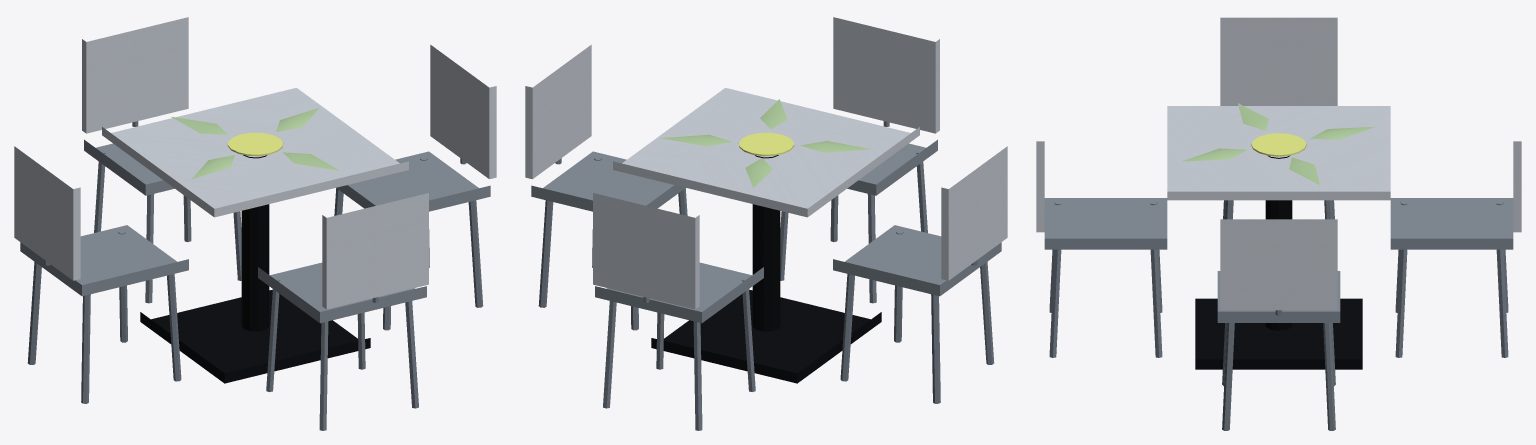
File: tt_food_table4.glb
The picture shows the model from 3 angles, left to right: view 1: azimuth 30°, elevation 25°; view 2: azimuth 150°, elevation 25°; view 3: azimuth 270°, elevation 25°; orthographic projection.
Visible parts, largest first — view 1: Chair_Back, Top, Chair_Seat, Base, Chair_Legs, Pedestal, Top_Leaf, Top_Ball; view 2: Chair_Back, Top, Chair_Seat, Base, Chair_Legs, Pedestal, Top_Leaf, Top_Ball; view 3: Chair_Back, Top, Chair_Seat, Base, Chair_Legs, Top_Leaf, Top_Ball, Pedestal.
Part boxes in pixels (<box>): Chair_Back: <box>14,17,496,309</box>; Top: <box>102,88,408,217</box>; Chair_Seat: <box>20,139,490,323</box>; Base: <box>140,289,370,383</box>; Chair_Legs: <box>27,153,483,430</box>; Pedestal: <box>241,155,269,331</box>; Top_Leaf: <box>171,108,339,179</box>; Top_Ball: <box>227,132,283,156</box>; Chair_Back: <box>525,17,1007,309</box>; Top: <box>613,88,919,217</box>; Chair_Seat: <box>531,139,1001,323</box>; Base: <box>651,289,881,383</box>; Chair_Legs: <box>538,153,994,430</box>; Pedestal: <box>752,155,780,331</box>; Top_Leaf: <box>661,99,871,187</box>; Top_Ball: <box>738,132,794,156</box>; Chair_Back: <box>1036,17,1521,310</box>; Top: <box>1167,106,1390,200</box>; Chair_Seat: <box>1044,198,1513,322</box>; Base: <box>1195,298,1362,369</box>; Chair_Legs: <box>1049,200,1508,430</box>; Top_Leaf: <box>1182,103,1375,184</box>; Top_Ball: <box>1251,133,1306,156</box>; Pedestal: <box>1265,155,1292,330</box>.
Size of what is drawn, in the model's own units: 1.74 by 0.8608 by 1.74.
Materials: 7 (4 with a texture image).
